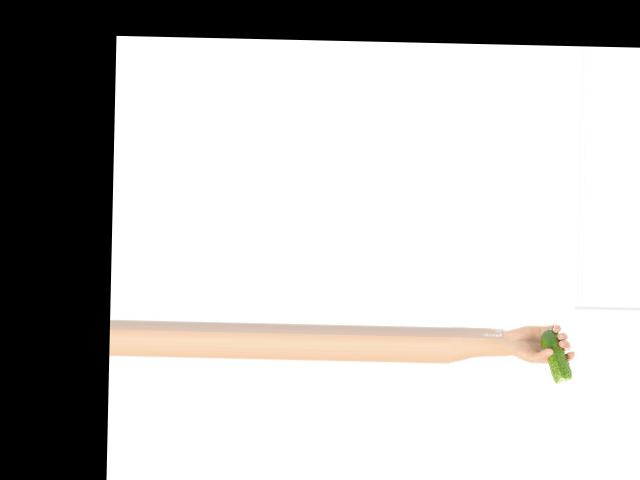cucumber: (539, 328, 572, 383)
